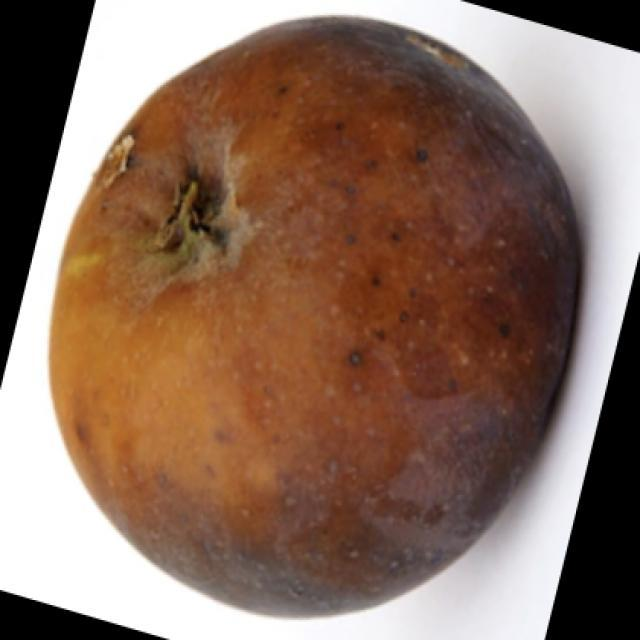Rotten: (73, 18, 565, 607)
